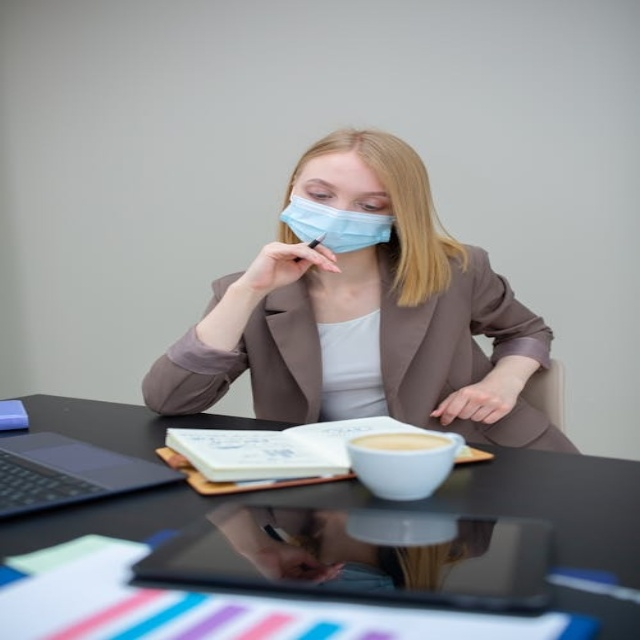Mascara: (278, 194, 396, 254)
Sin_gafas: (301, 177, 390, 212)
Sin_guantes: (236, 239, 343, 293), (426, 380, 525, 427)
